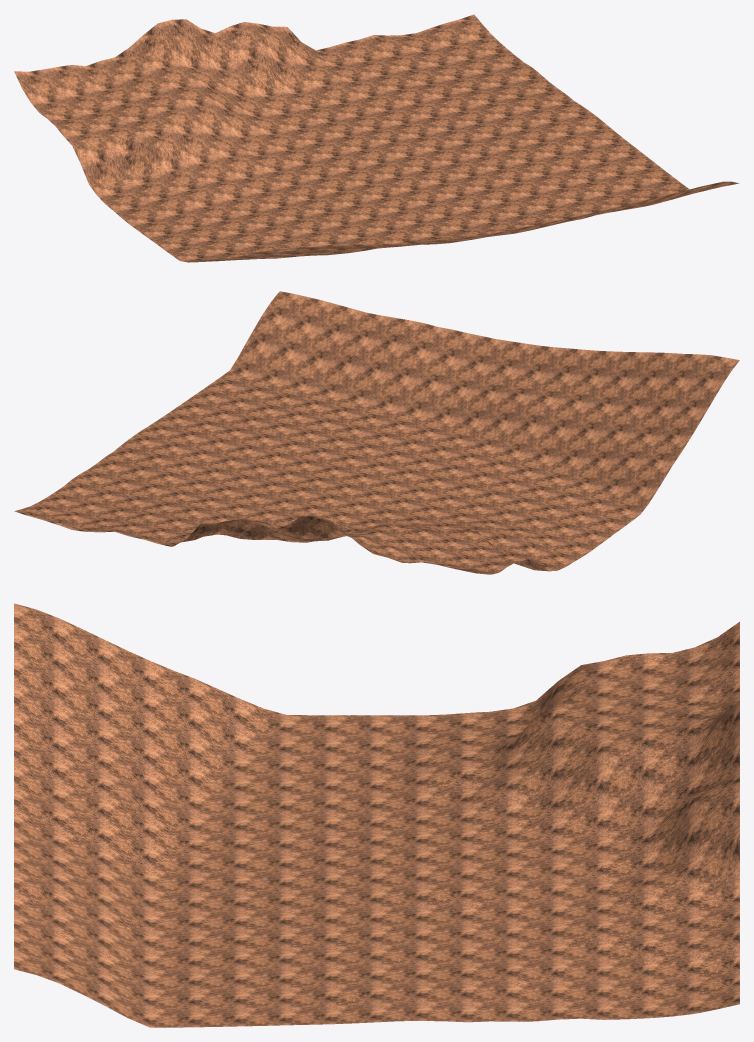
Rendered from terrain_03_12.dae.
The picture shows the model from 3 angles, top to bottom: view 1: azimuth 30°, elevation 25°; view 2: azimuth 150°, elevation 25°; view 3: azimuth 270°, elevation 25°; orthographic projection. The views are drawn at different scales.
Visible parts, largest first — view 1: terrain_03_12-node; view 2: terrain_03_12-node; view 3: terrain_03_12-node.
Part boxes in pixels (left/top/right/bottom): terrain_03_12-node: left=14, top=14, right=739, bottom=262; terrain_03_12-node: left=14, top=291, right=739, bottom=574; terrain_03_12-node: left=14, top=603, right=739, bottom=1027.
Size of the model in its own units: 128 by 128 by 22.86.
Materials: 1 (1 with a texture image).
